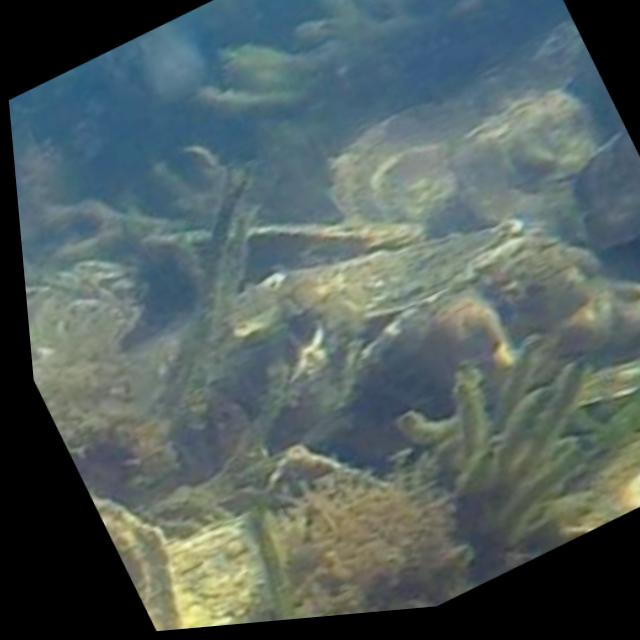Oyster-Closed: (93, 497, 183, 631)
Oyster-Indeterminate: (276, 220, 518, 329), (459, 83, 603, 236), (339, 100, 490, 224), (571, 434, 640, 529)
